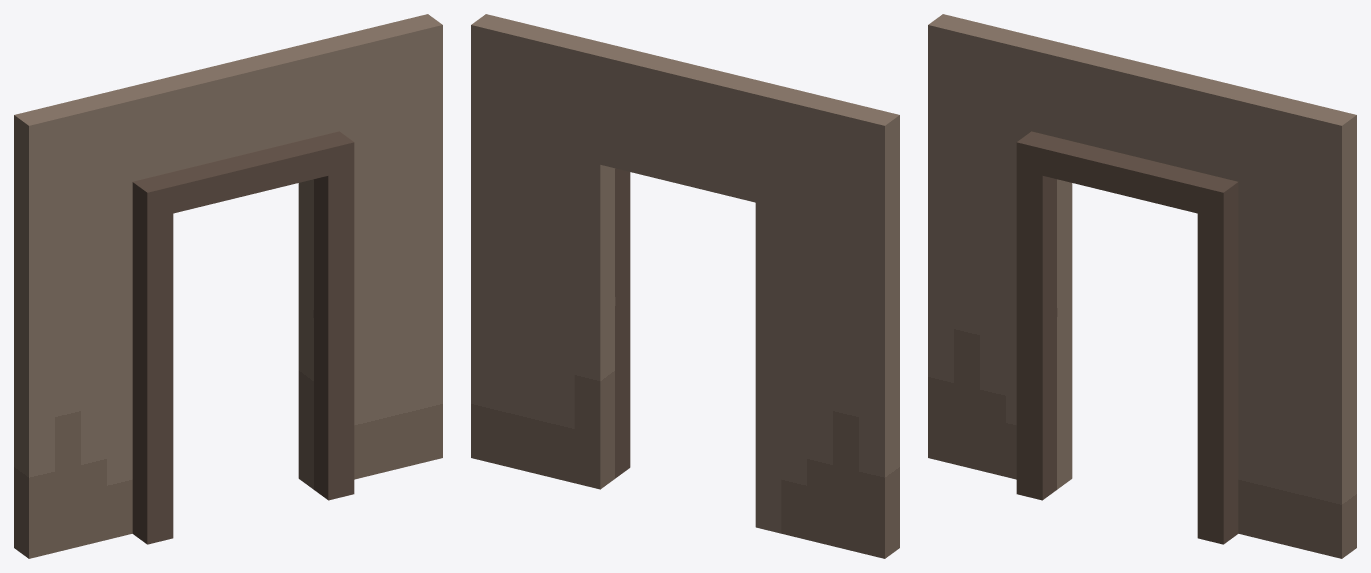
File: wall_door_01.fbx
3 views of the same model, side by side, from view 1: azimuth 30°, elevation 25°; view 2: azimuth 150°, elevation 25°; view 3: azimuth 330°, elevation 25° (orthographic).
Visible parts, largest first — view 1: wall_door_01_0; view 2: wall_door_01_0; view 3: wall_door_01_0.
Boxes of the visible parts, box(x1,y1,x2,y2) form: wall_door_01_0: box(14, 14, 442, 558); wall_door_01_0: box(471, 14, 899, 558); wall_door_01_0: box(928, 14, 1356, 558).
Bounding box in the file's own units: 1600 × 200 × 1600.
